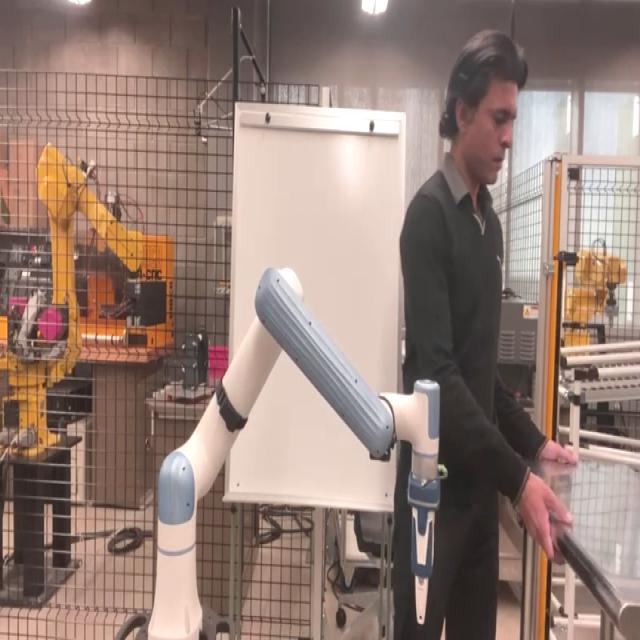robot: (115, 264, 447, 637)
